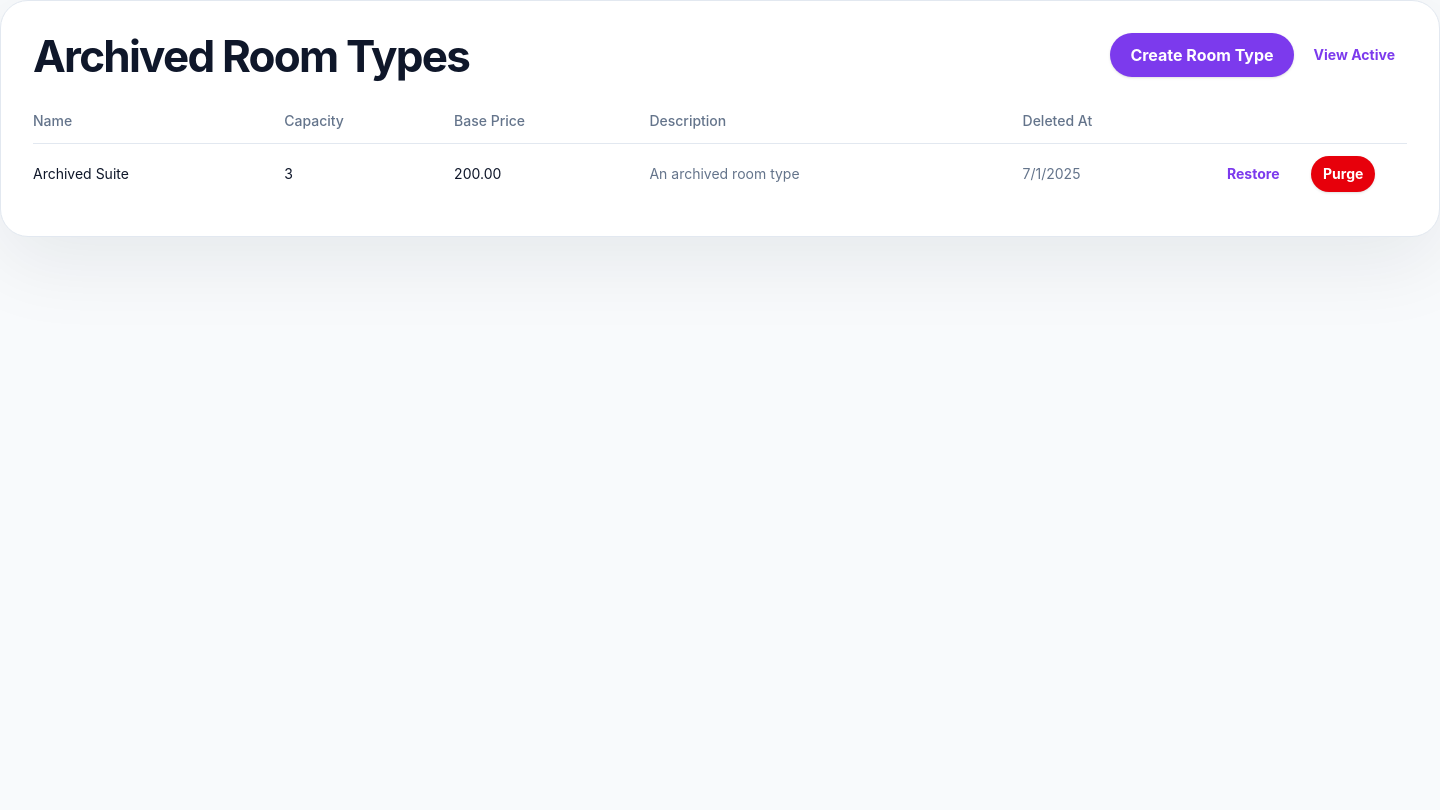
it: RoomTypesPage › restore flow › opens restore dialog when Restore is clicked
Click the button "Restore". click: (1253, 174)
box: [1215,156,1292,192]
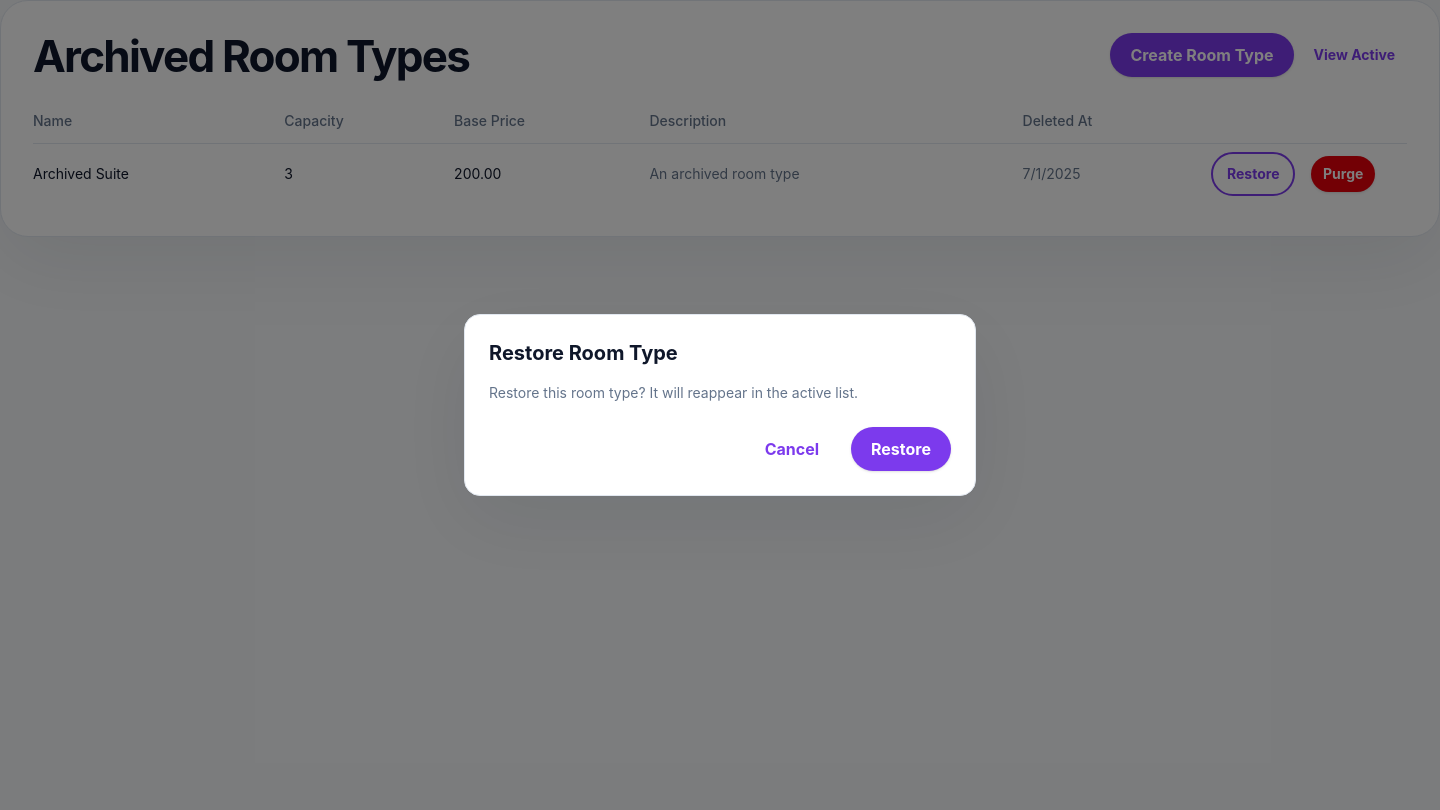
Check: the dialog is shown, box [464,314,976,496]
Check: the text "Restore this room type? It will reappear in the active list." is shown, box [489,384,858,401]
